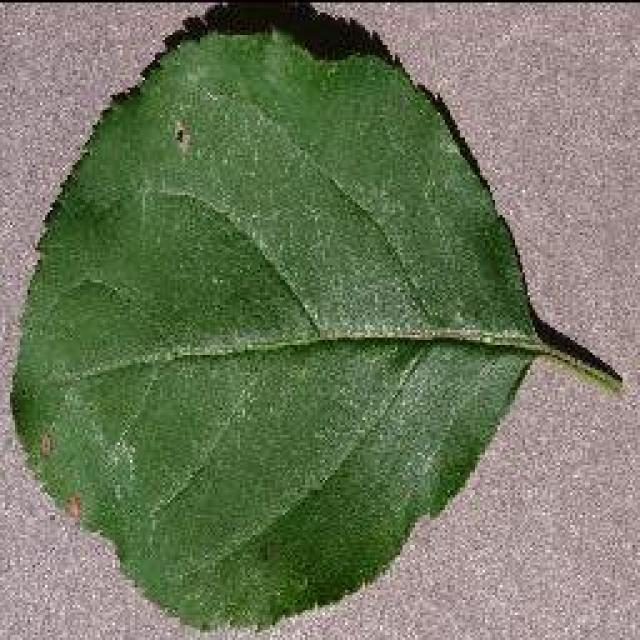Black_rot: (8, 0, 622, 635)
